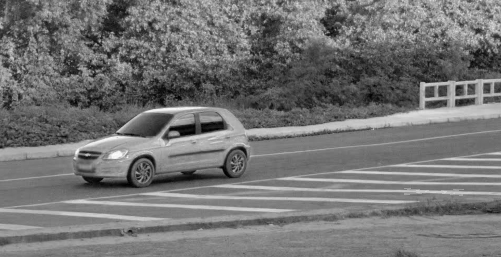car: (70, 103, 259, 191)
